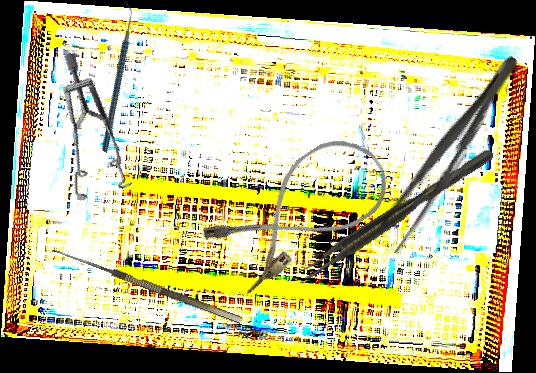Cannula: (197, 121, 403, 300)
Chopper: (53, 0, 178, 153)
Dressing Forceps: (370, 47, 530, 258)
Hook Surgical: (47, 245, 243, 334)
Speculum: (20, 51, 166, 215)
Tissue Forceps: (297, 147, 499, 284)
